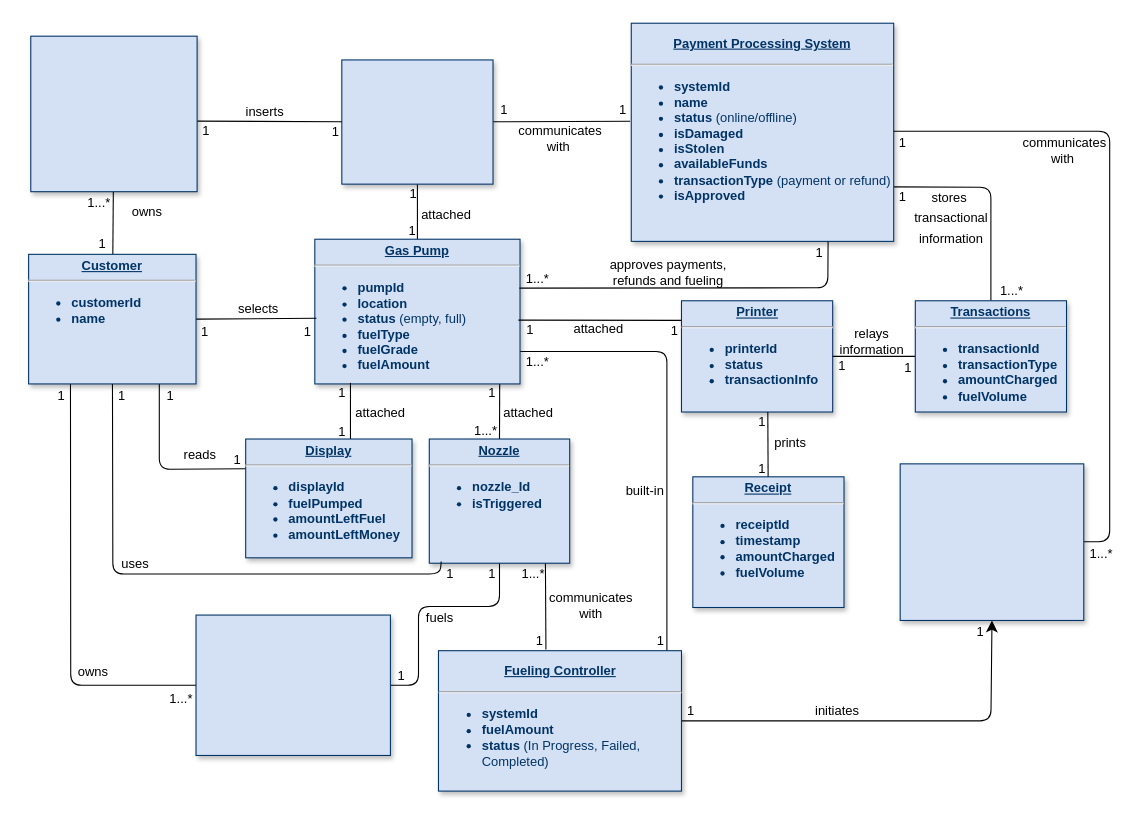
This 1139x818 diagram has some shape labels left out. The shapes that lost their labels are listed below. From the top down, each one's centre as x and y in pixels, then its label:
the point at 114,115: Credit Card cardNumber expiryDate cardHolderName securityCode isActive
the point at 418,123: Card Reader readerId status paymentType (pre-pay/pay later)
the point at 992,543: Refund Request refundRequestId requestedAmount reason timestamp
the point at 294,686: Car carId licensePlate make / model
